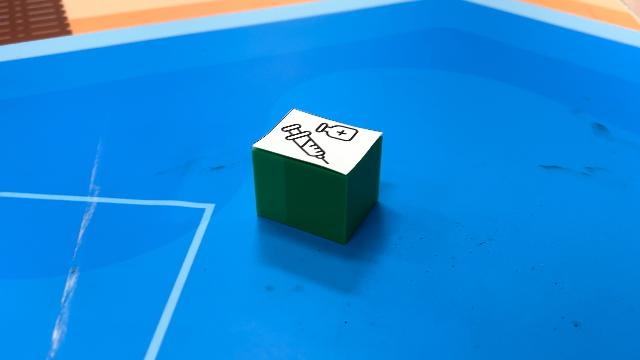syringe: (251, 107, 383, 245)
